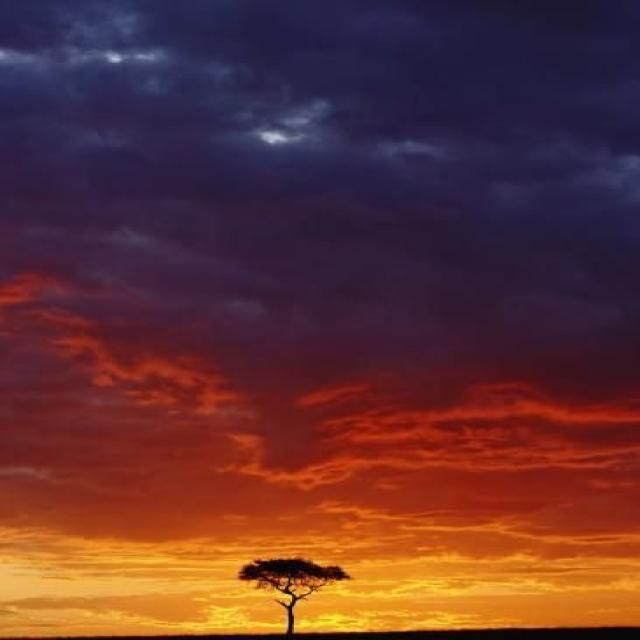Acacia: (199, 537, 381, 629)
